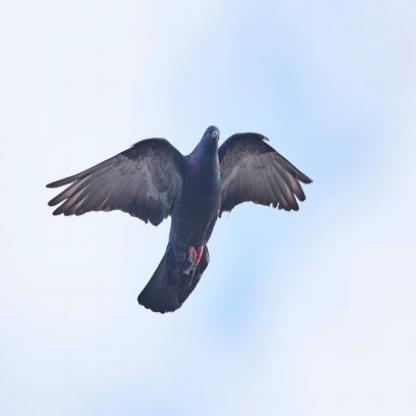Rock Pigeon: (66, 126, 303, 297)
